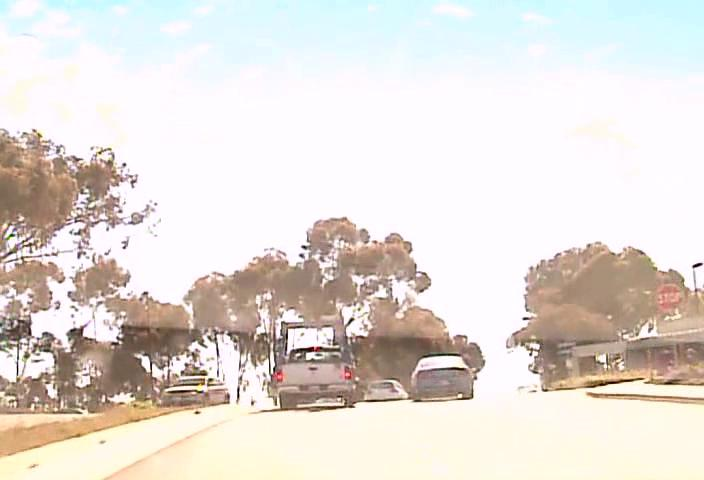stop: (655, 282, 684, 310)
